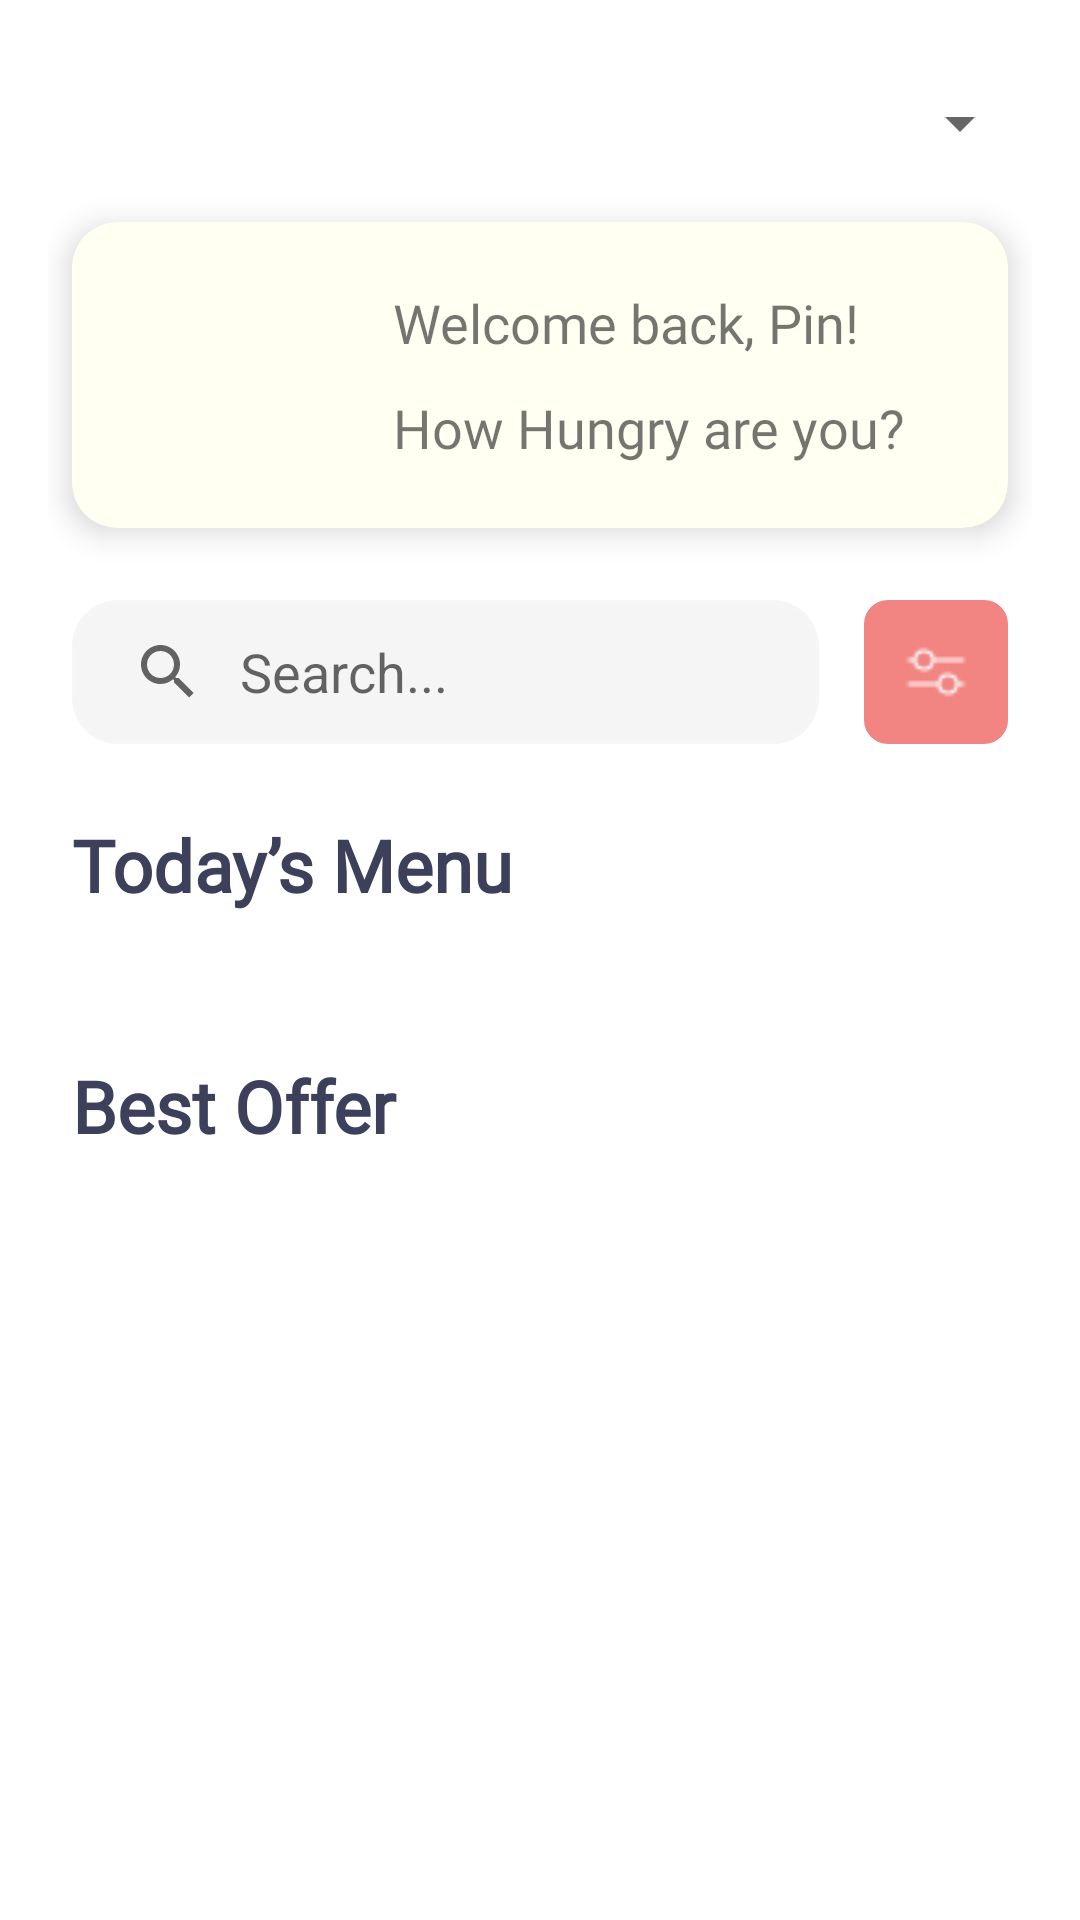

Icon click points for this 1080px x 1920px phone screenshot, format [x,y]:
filter: [936,672]
